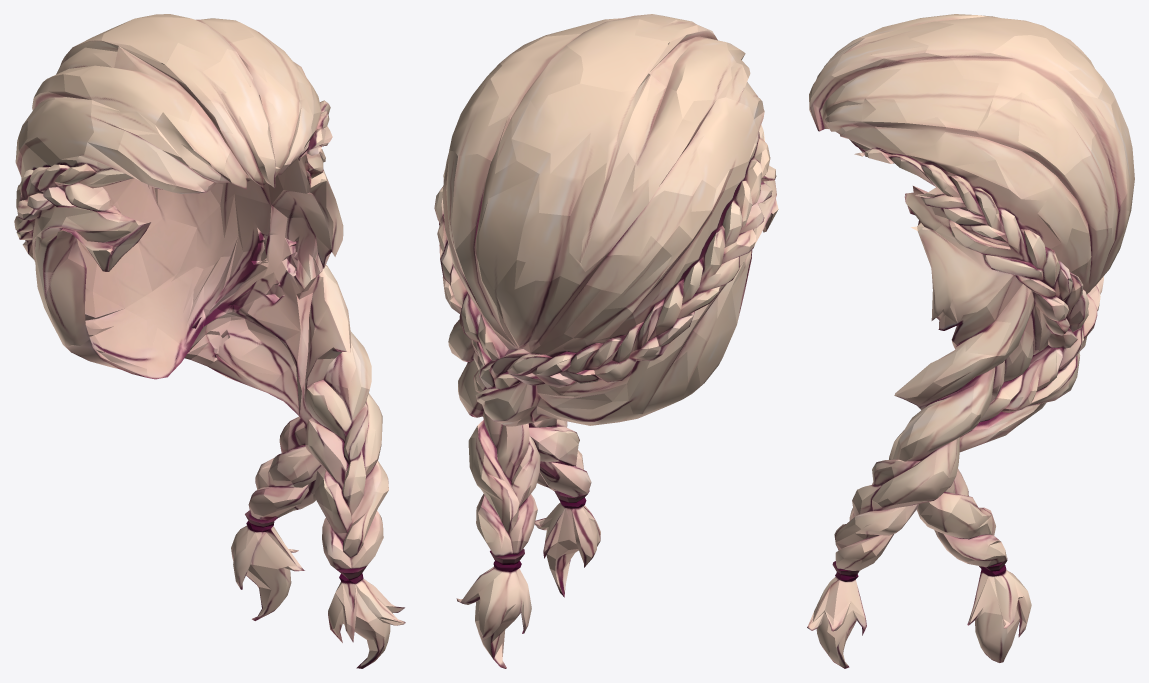
Rendered from fennal_m-longue-tresse.glb.
The picture shows the model from 3 angles, left to right: view 1: azimuth 30°, elevation 25°; view 2: azimuth 150°, elevation 25°; view 3: azimuth 270°, elevation 25°; orthographic projection. The views are drawn at different scales.
Visible parts, largest first — view 1: geometry_0; view 2: geometry_0; view 3: geometry_0.
Boxes of the visible parts, box(x1,y1,x2,y2) form: geometry_0: box(14, 14, 405, 668); geometry_0: box(434, 14, 778, 668); geometry_0: box(807, 14, 1134, 668).
Bounding box in the file's own units: 1.02 × 1.9 × 0.9542.
1 material, 1 textured.
